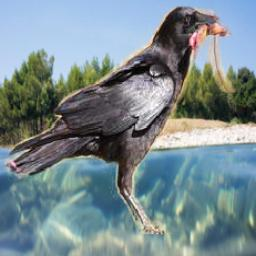Crow: (4, 0, 242, 235)
